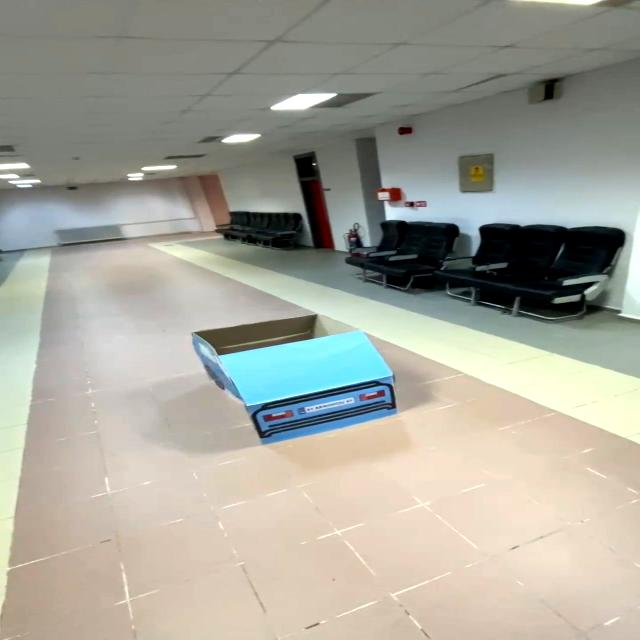blue_car: (176, 300, 402, 458)
